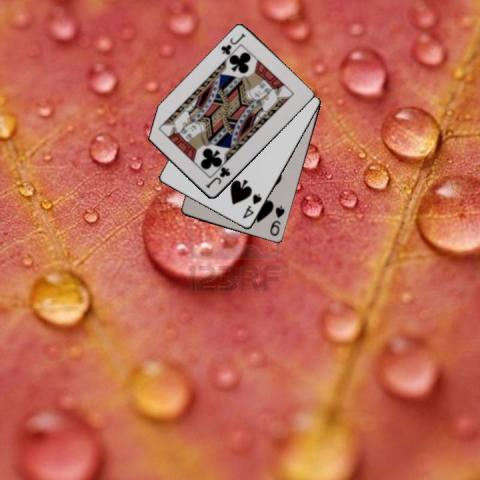4s: (239, 190, 264, 220)
9s: (267, 203, 286, 237)
Jc: (218, 30, 247, 56), (203, 165, 232, 190)
